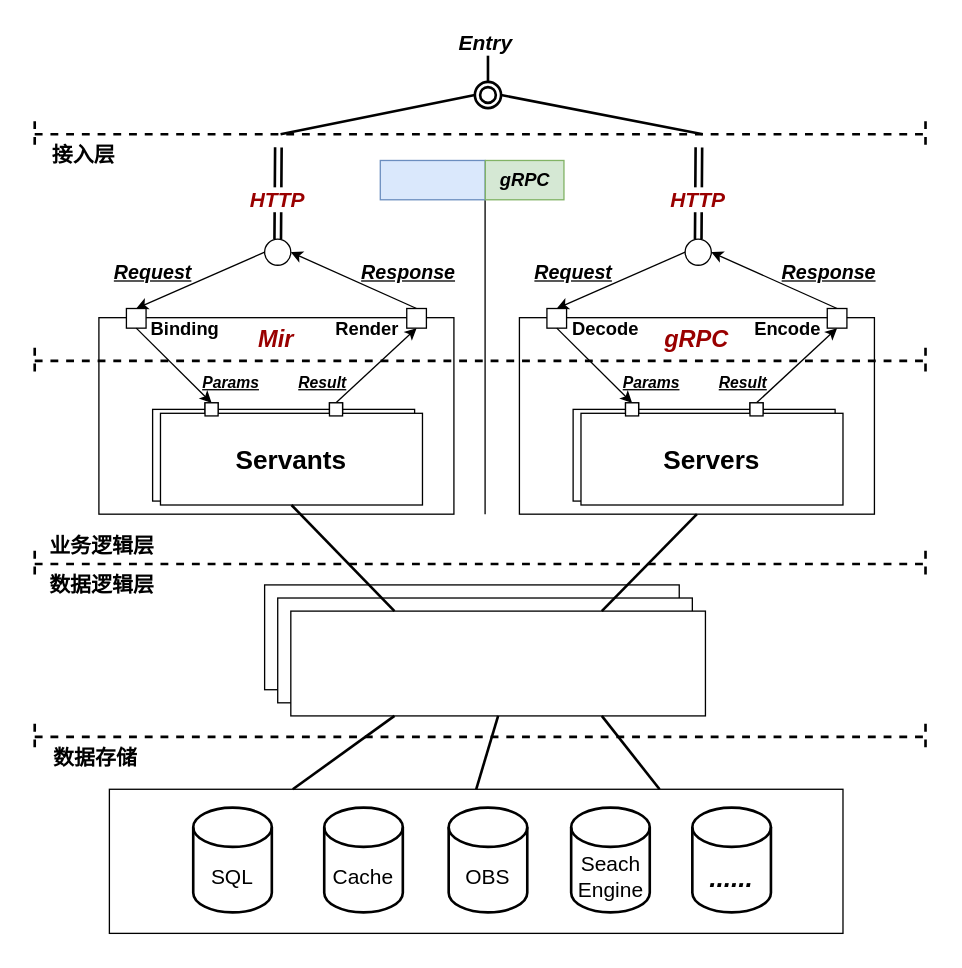
This 962x968 diagram has some shape labels left out. Each missing label, with the centre of its shape:
Database/Storage/Cache Logics: [497,663]
RESTful: [432,179]
